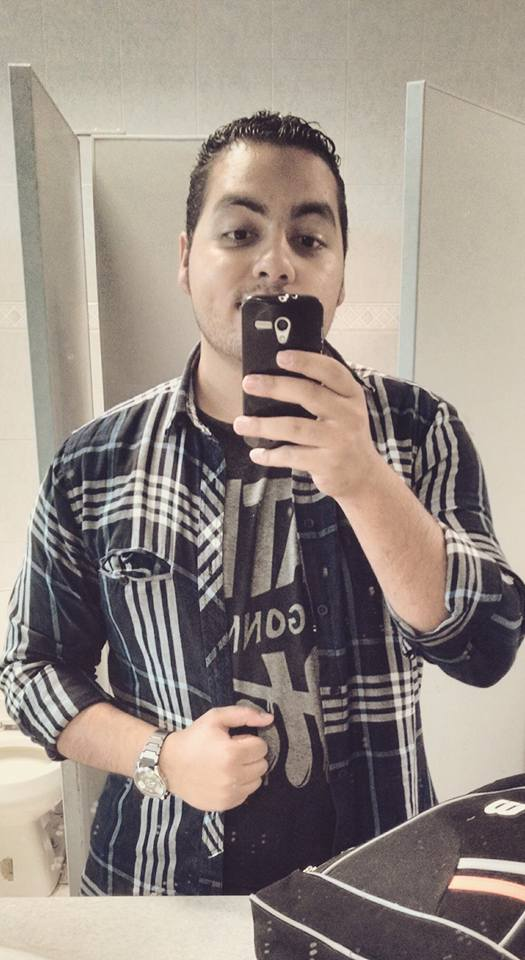Yoshi: (135, 83, 395, 399)
